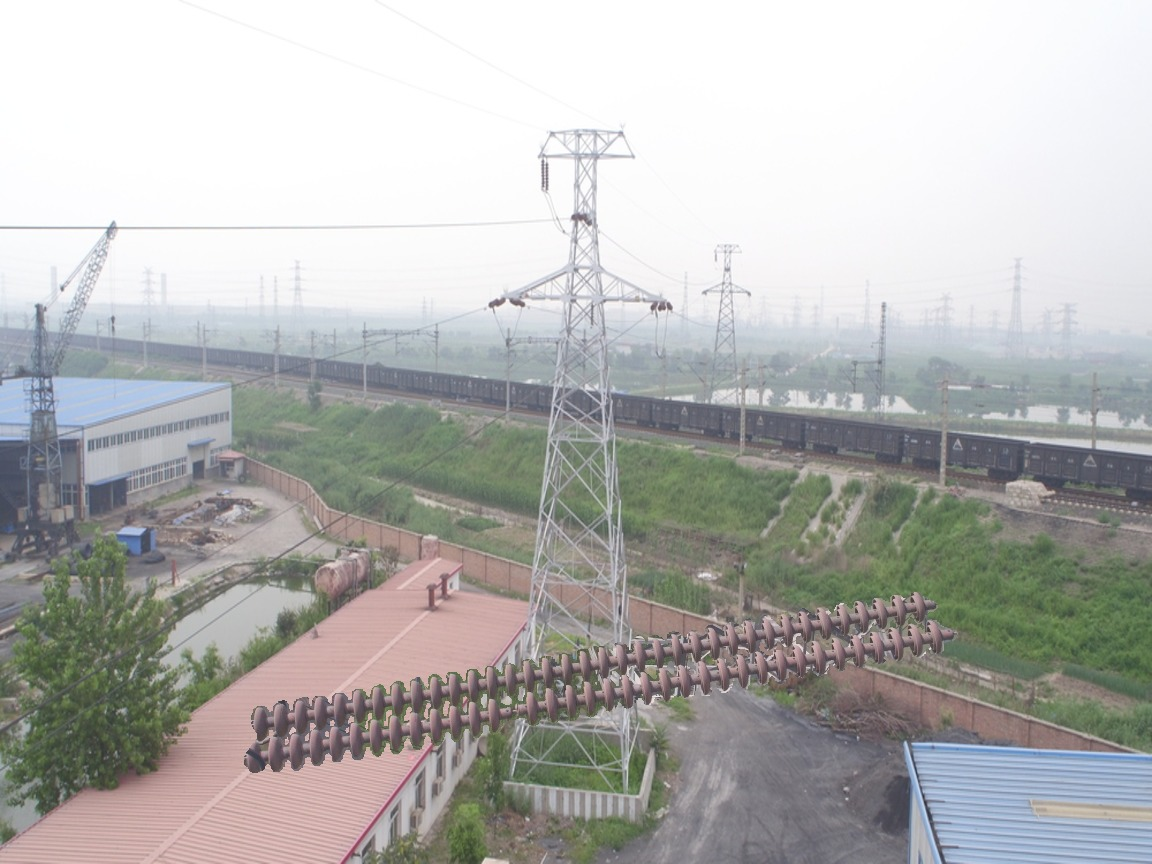defect: (480, 685, 544, 733)
